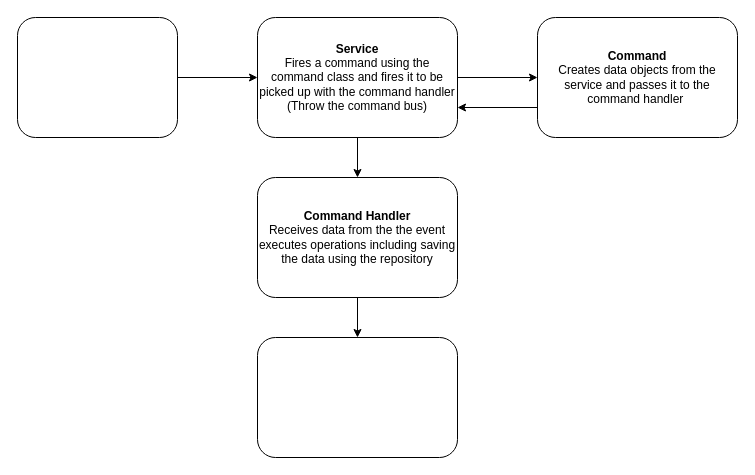
Image size: 755x475. Some labels were removed from this diagram. Here are the shapes that lost their labels. From the top down, the centre of each, then its label:
At (97,77): "Controller Listenes to endpoint (read requests)".
At (357,397): "Repository Saves data from the command to the designated database".
